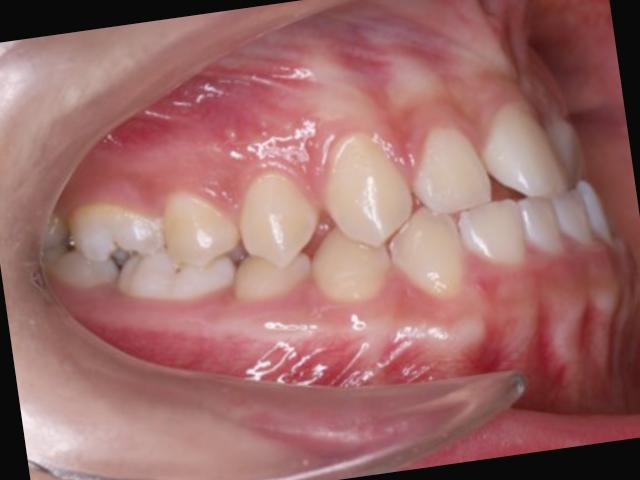canine class III 1/4: (289, 111, 474, 338)
molar class III 3/4: (61, 184, 237, 318)
